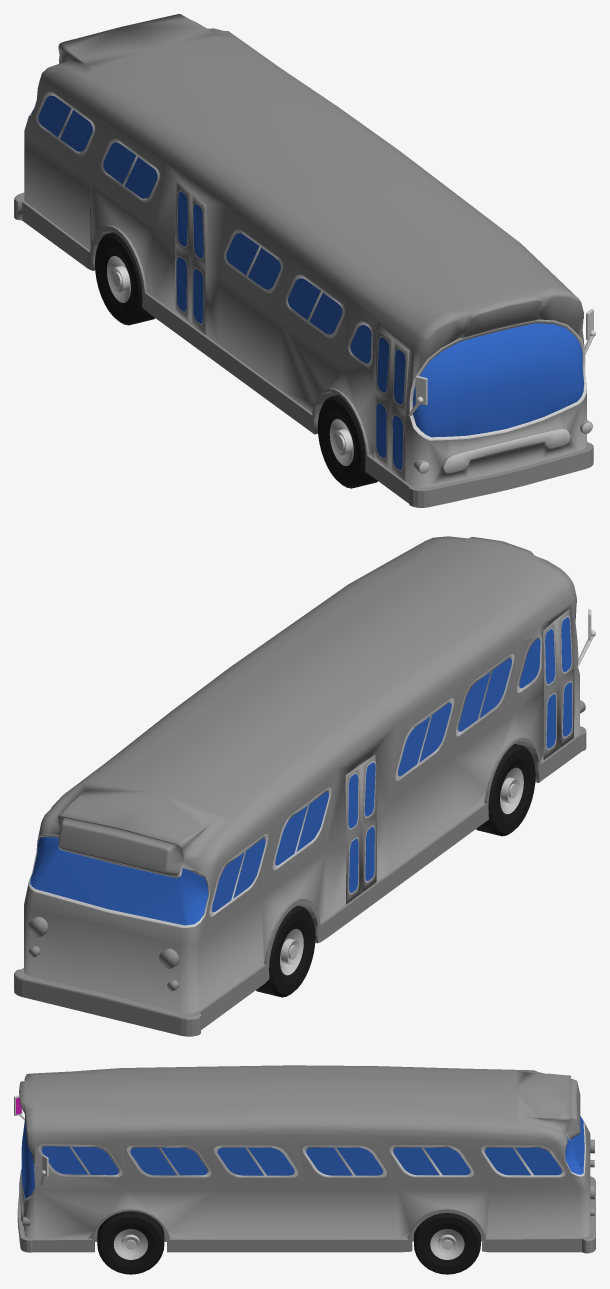
The model's file is Bus.dae.
The picture shows the model from 3 angles, top to bottom: view 1: azimuth 30°, elevation 25°; view 2: azimuth 150°, elevation 25°; view 3: azimuth 270°, elevation 25°; orthographic projection. The views are drawn at different scales.
Visible parts, largest first — view 1: Body_Exterior, Window, FR, BR, Door2, Door1, Door4, Door3, Mirrors; view 2: Body_Exterior, Window, FR, BR, Door3, Door4, Door1, Door2; view 3: Body_Exterior, Window, FL, BL, Mirrors.
Part boxes in pixels (<box>): Body_Exterior: <box>14,14,593,507</box>; Window: <box>29,91,586,440</box>; FR: <box>317,395,377,488</box>; BR: <box>95,232,154,325</box>; Door2: <box>374,329,393,469</box>; Door1: <box>390,339,409,481</box>; Door4: <box>174,183,191,323</box>; Door3: <box>190,194,206,334</box>; Mirrors: <box>408,309,595,415</box>; Body_Exterior: <box>14,536,586,1036</box>; Window: <box>28,635,541,928</box>; FR: <box>476,744,535,836</box>; BR: <box>256,905,315,997</box>; Door3: <box>360,754,376,893</box>; Door4: <box>345,765,361,904</box>; Door1: <box>556,609,574,748</box>; Door2: <box>543,620,558,759</box>; Body_Exterior: <box>17,1065,595,1253</box>; Window: <box>21,1116,585,1201</box>; FL: <box>97,1211,164,1274</box>; BL: <box>414,1213,480,1274</box>; Mirrors: <box>14,1095,48,1185</box>.
Bounding box in the file's own units: 3.05 × 10.91 × 3.31.
